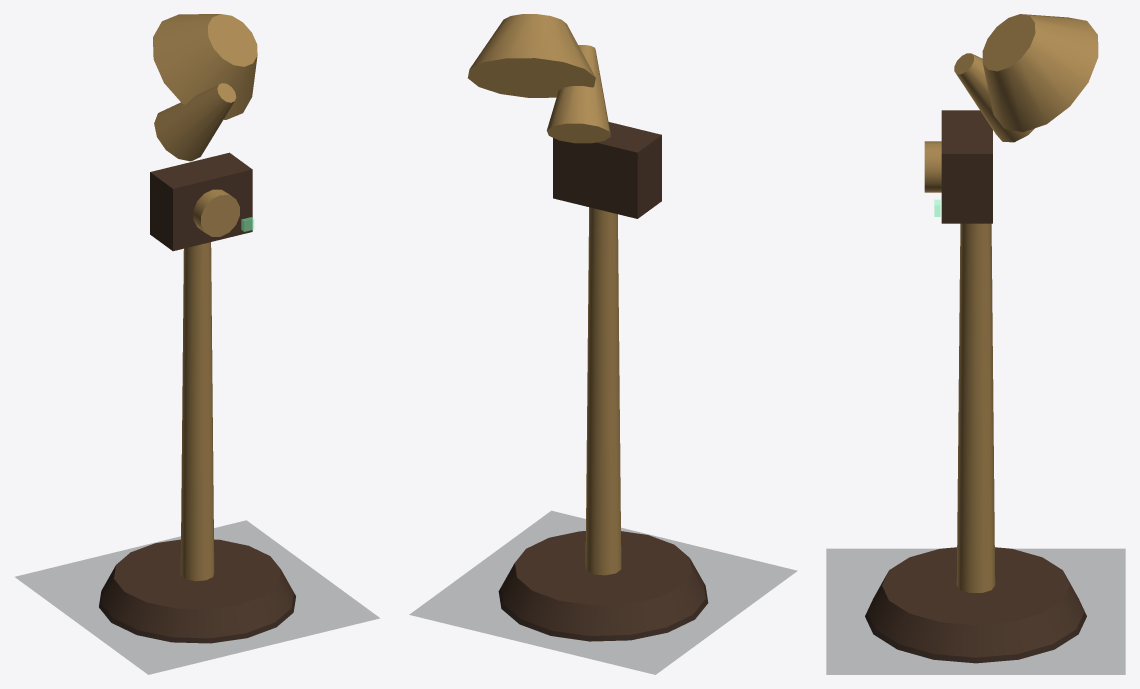
Rendered from hp_room_rm_museum_audio_stand.glb.
The picture shows the model from 3 angles, left to right: view 1: azimuth 30°, elevation 25°; view 2: azimuth 150°, elevation 25°; view 3: azimuth 270°, elevation 25°; orthographic projection. The views are drawn at different scales.
Visible parts, largest first — view 1: contact_shadow, stand_base, stand_post, horn_bell, dial_box, horn_throat, dial; view 2: contact_shadow, stand_base, stand_post, dial_box, horn_bell, horn_throat; view 3: contact_shadow, stand_base, stand_post, horn_bell, dial_box, horn_throat, dial.
Boxes of the visible parts, <box> form: contact_shadow: <box>15,520,379,674</box>; stand_base: <box>99,539,295,643</box>; stand_post: <box>180,242,214,581</box>; horn_bell: <box>153,14,257,119</box>; dial_box: <box>150,152,252,251</box>; horn_throat: <box>154,83,236,161</box>; dial: <box>193,189,239,236</box>; contact_shadow: <box>409,511,796,674</box>; stand_base: <box>498,531,708,641</box>; stand_post: <box>585,207,621,575</box>; dial_box: <box>553,122,661,218</box>; horn_bell: <box>468,14,595,97</box>; horn_throat: <box>546,45,610,143</box>; contact_shadow: <box>826,549,1125,674</box>; stand_base: <box>865,547,1086,663</box>; stand_post: <box>956,223,995,592</box>; horn_bell: <box>982,14,1098,132</box>; dial_box: <box>941,110,992,223</box>; horn_throat: <box>954,53,1034,142</box>; dial: <box>924,141,941,192</box>.
Size of the model in its own units: 0.7 by 1.61 by 0.7.
